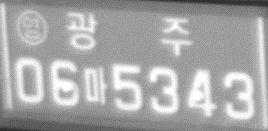0: (14, 56, 45, 104)
3: (148, 65, 181, 115), (222, 71, 255, 121)
4: (186, 69, 217, 116)
5: (111, 63, 144, 112)
6: (49, 59, 80, 107)
광주_D: (65, 12, 192, 56)
마: (83, 66, 108, 105)
영: (15, 8, 48, 45)
